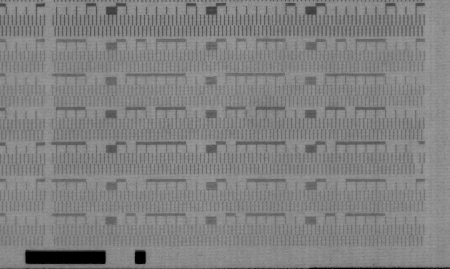Broken hole: (410, 152, 425, 175)
